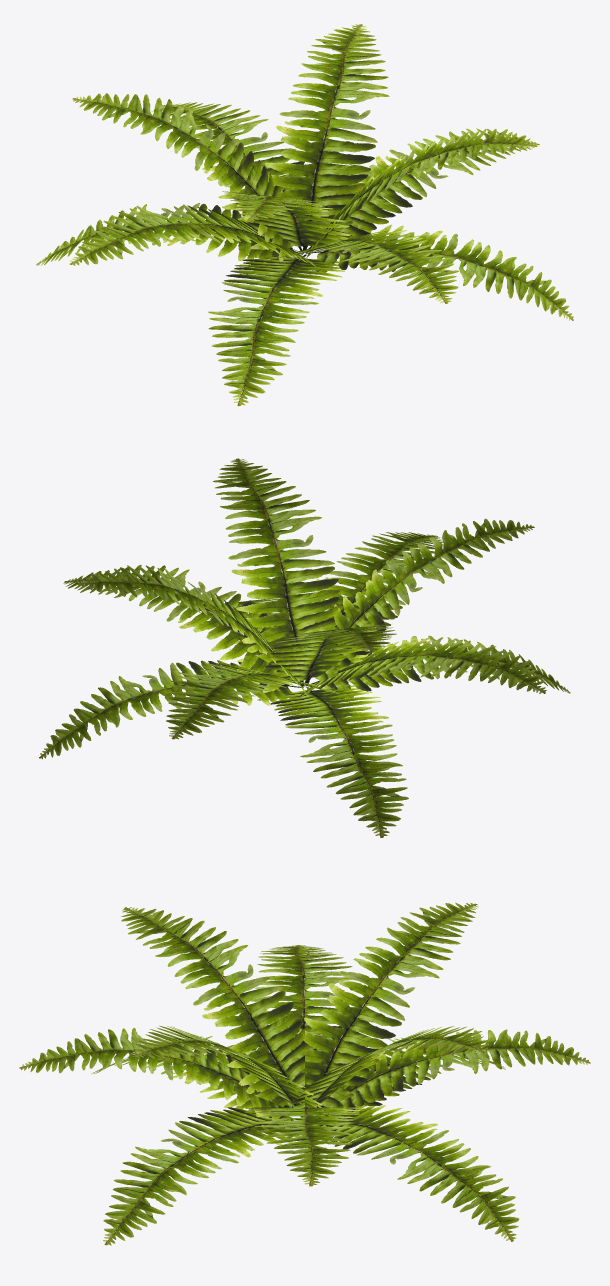
The model's file is Fern_LP.FBX.
The picture shows the model from 3 angles, top to bottom: view 1: azimuth 30°, elevation 25°; view 2: azimuth 150°, elevation 25°; view 3: azimuth 270°, elevation 25°; orthographic projection. The views are drawn at different scales.
Visible parts, largest first — view 1: Fern; view 2: Fern; view 3: Fern.
Boxes of the visible parts, x1,y1,x2,y2 form: Fern: [36, 24, 573, 406]; Fern: [39, 458, 570, 837]; Fern: [19, 902, 590, 1245].
Bounding box in the file's own units: 75.01 × 25.65 × 75.01.
1 material, 1 textured.
